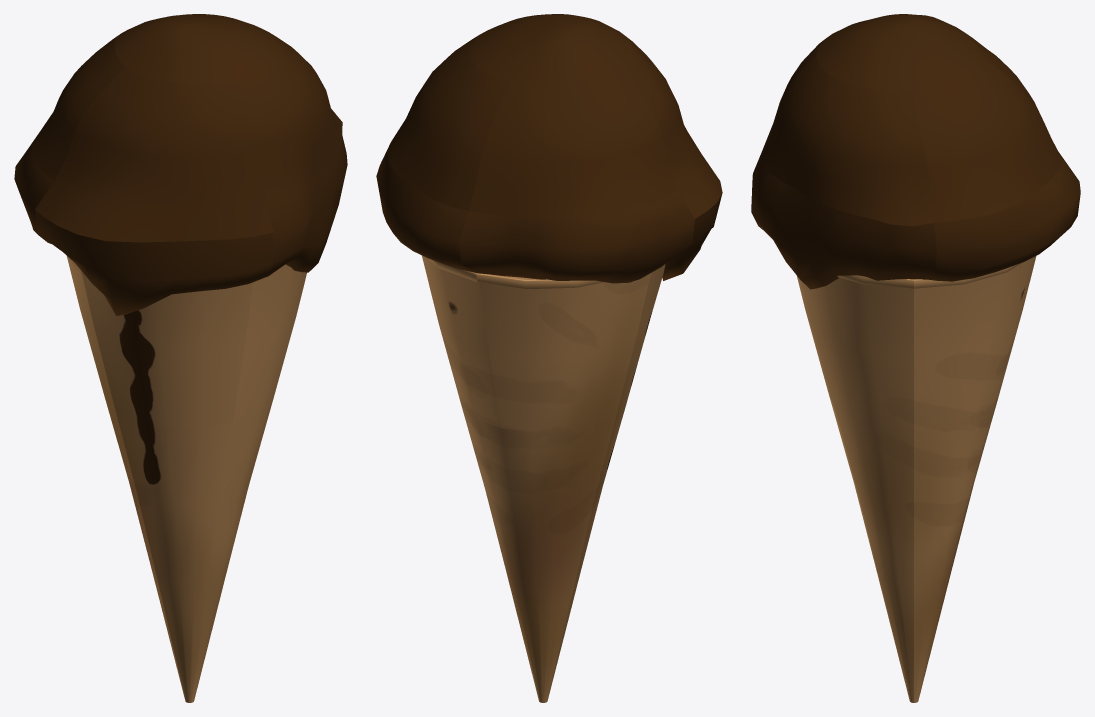
File: uploads_files_2098038_choco+ice+cream.fbx
3 renders of one model, left to right at view 1: azimuth 30°, elevation 25°; view 2: azimuth 150°, elevation 25°; view 3: azimuth 270°, elevation 25°, orthographic.
Parts seen in each view (by area): view 1: Ice_cream; view 2: Ice_cream; view 3: Ice_cream.
Part boxes in pixels (x1,y1,x2,y2): Ice_cream: (14,14,347,702); Ice_cream: (376,14,722,702); Ice_cream: (751,14,1080,702).
Size of the model in its own units: 39.93 by 86.54 by 38.39.
